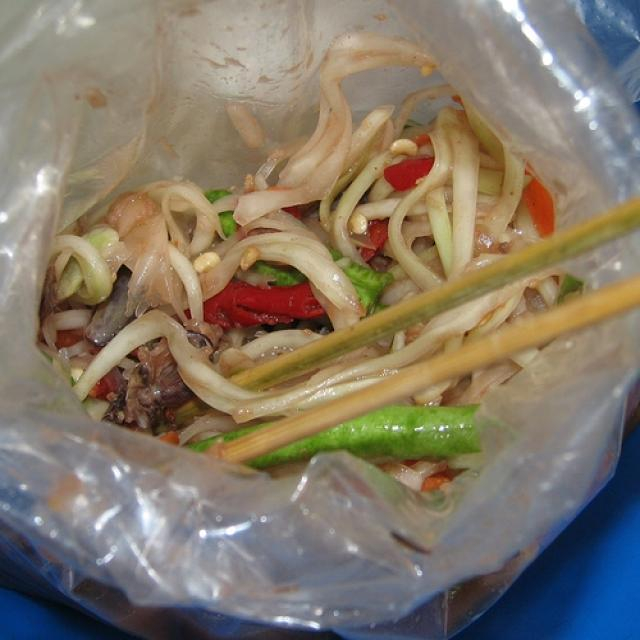蔬菜料理: (25, 19, 603, 602)
